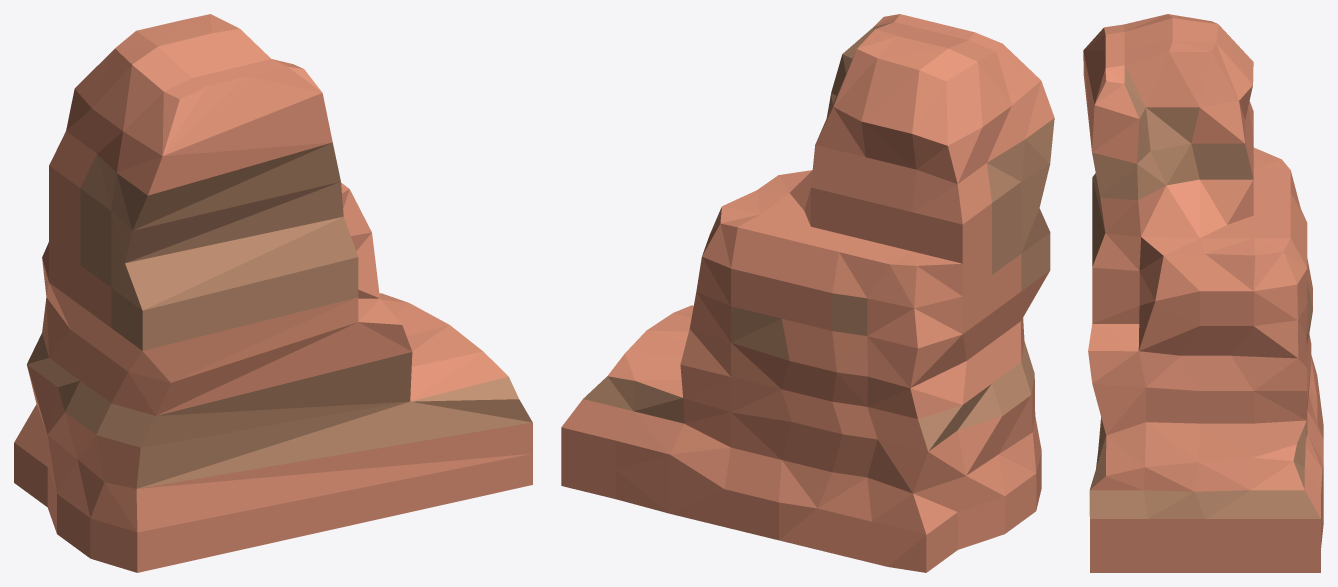
Rendered from rock2.fbx.
3 renders of one model, left to right at view 1: azimuth 30°, elevation 25°; view 2: azimuth 150°, elevation 25°; view 3: azimuth 270°, elevation 25°, orthographic. The views are drawn at different scales.
Visible parts, largest first — view 1: Plane; view 2: Plane; view 3: Plane.
Boxes of the visible parts, bbox=[...] form: Plane: bbox=[14, 14, 532, 572]; Plane: bbox=[561, 14, 1054, 572]; Plane: bbox=[1083, 14, 1323, 572].
Size of the model in its own units: 1135 by 1286 by 672.
